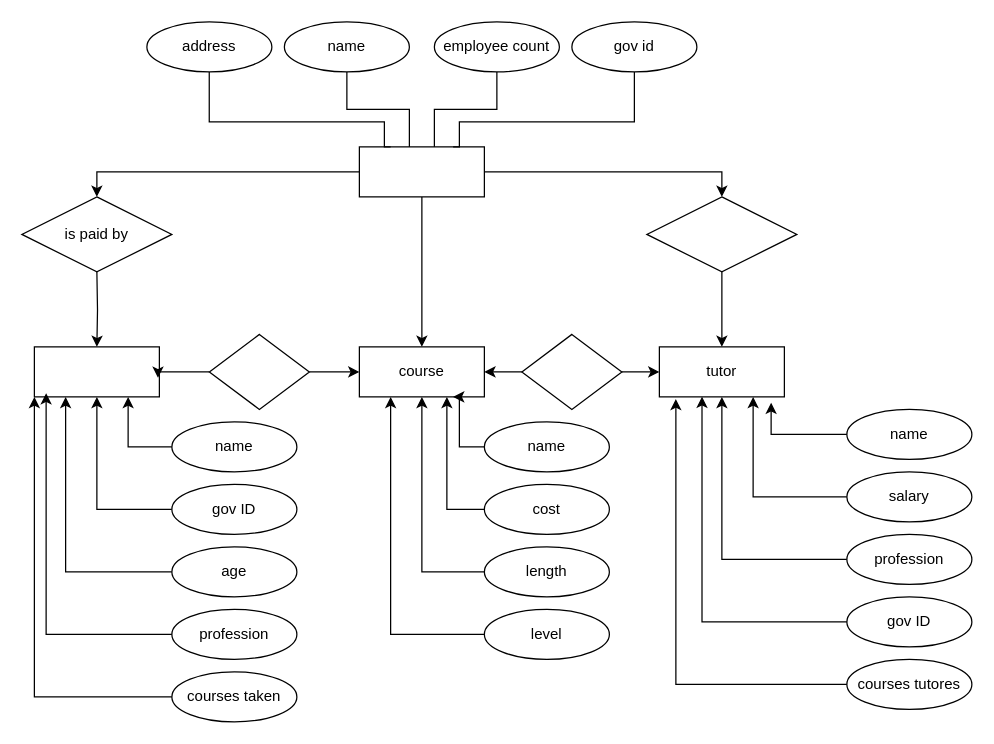
Image size: 994x744. Some labels were removed from this diagram. Here are the shapes that lost their labels. From the top down, the centre of each, then its label:
At (421,171): "institute".
At (721,234): "pays".
At (96,371): "student".
At (258,371): "learns".
At (571,371): "teaches".
